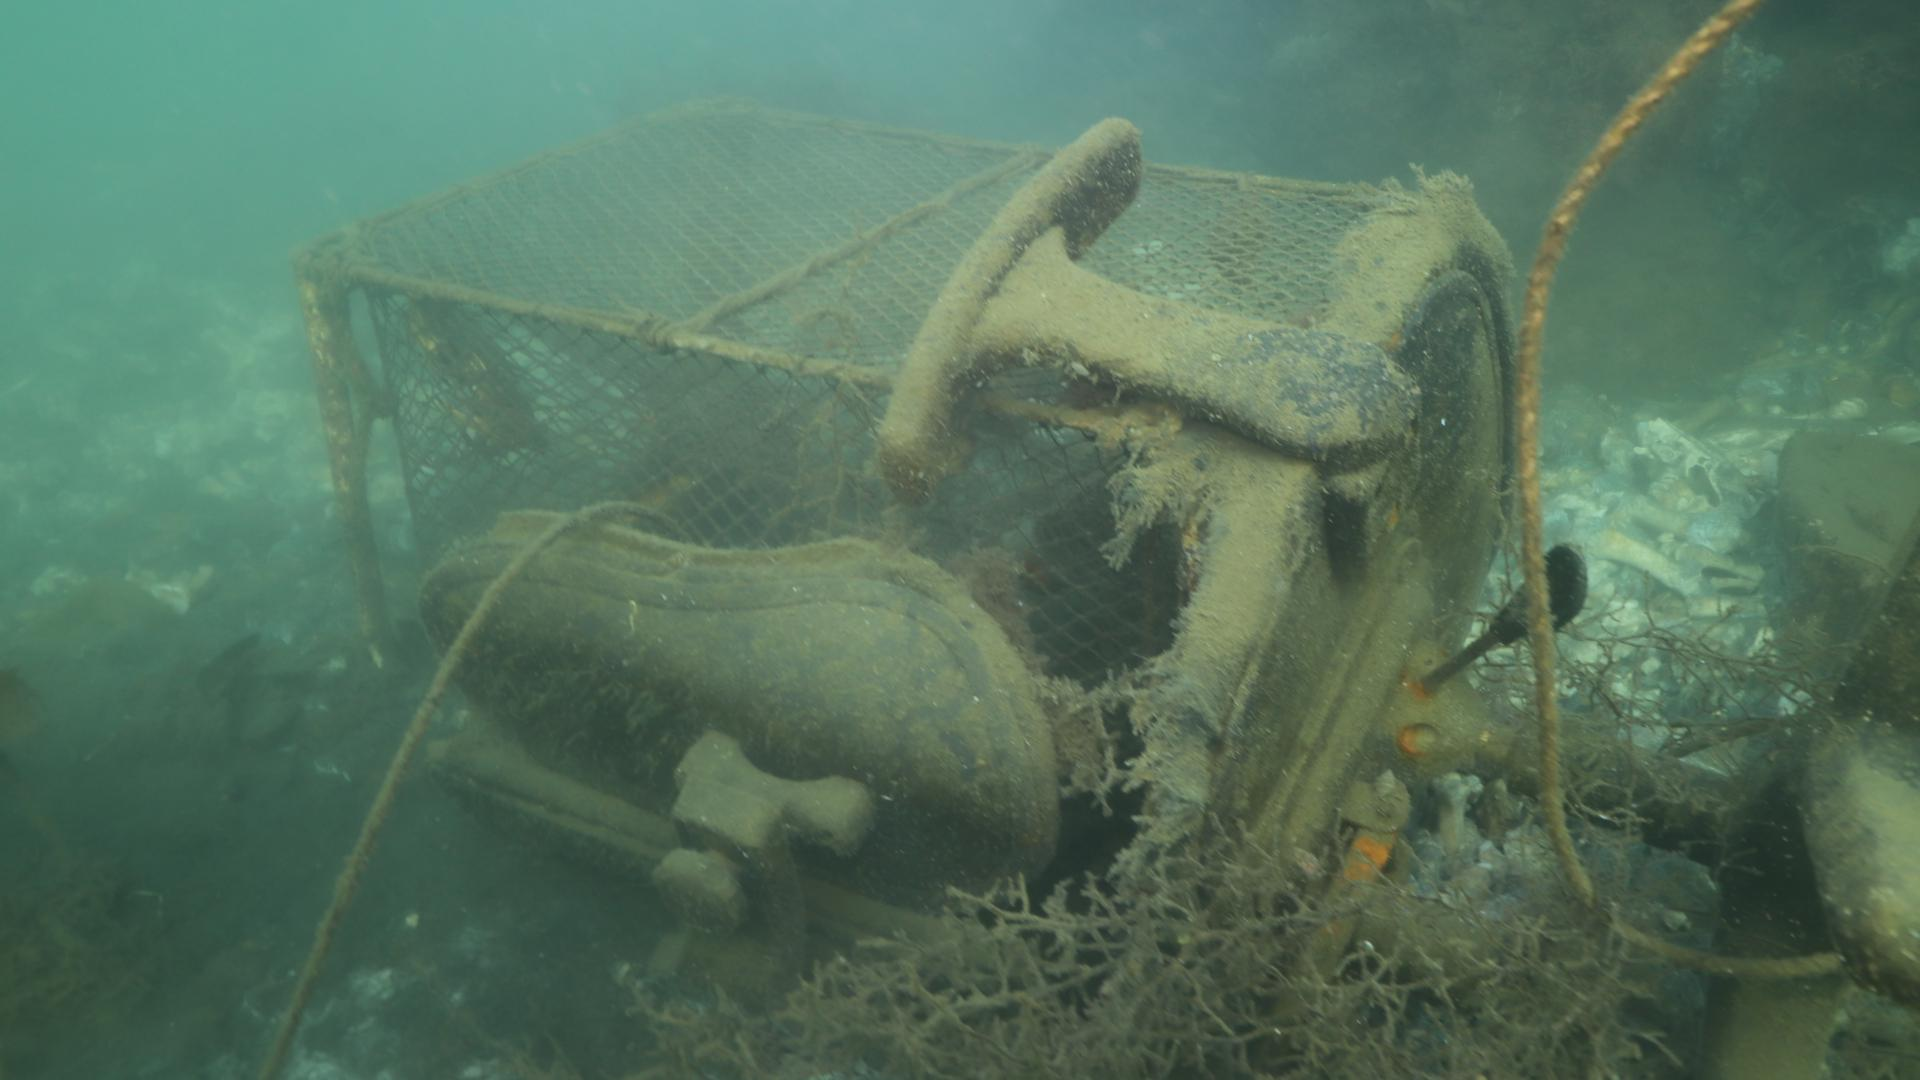rectangular fish trap: (285, 94, 1516, 800)
rope: (1513, 0, 1845, 982), (258, 498, 696, 1080)
